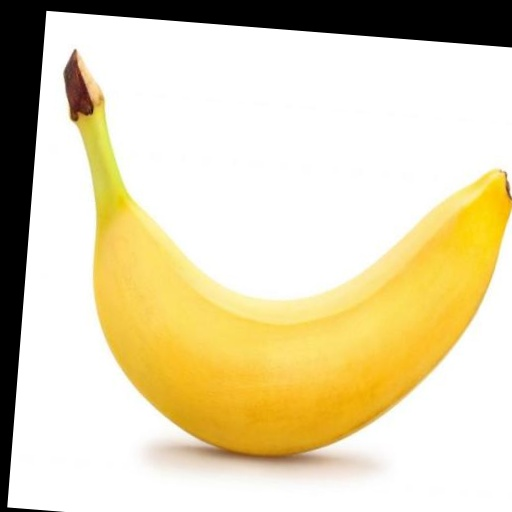fruit: (65, 52, 512, 455)
